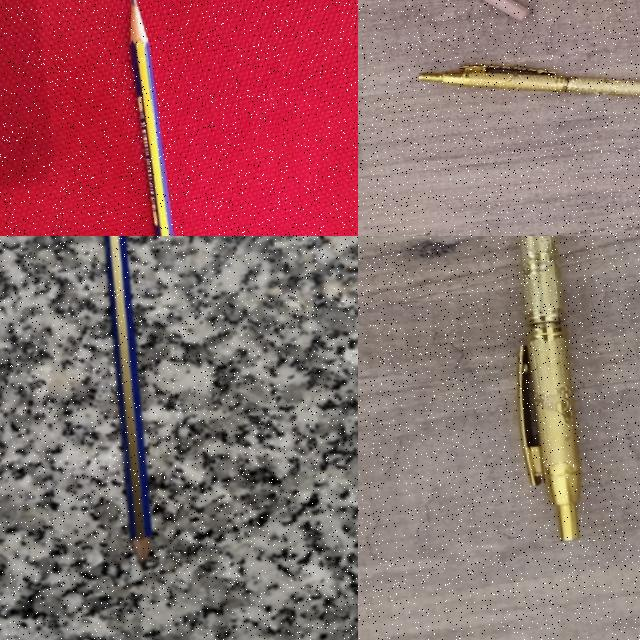pencil: (104, 236, 151, 562), (129, 0, 171, 235)
signature pen: (424, 35, 640, 132), (517, 236, 580, 540)
